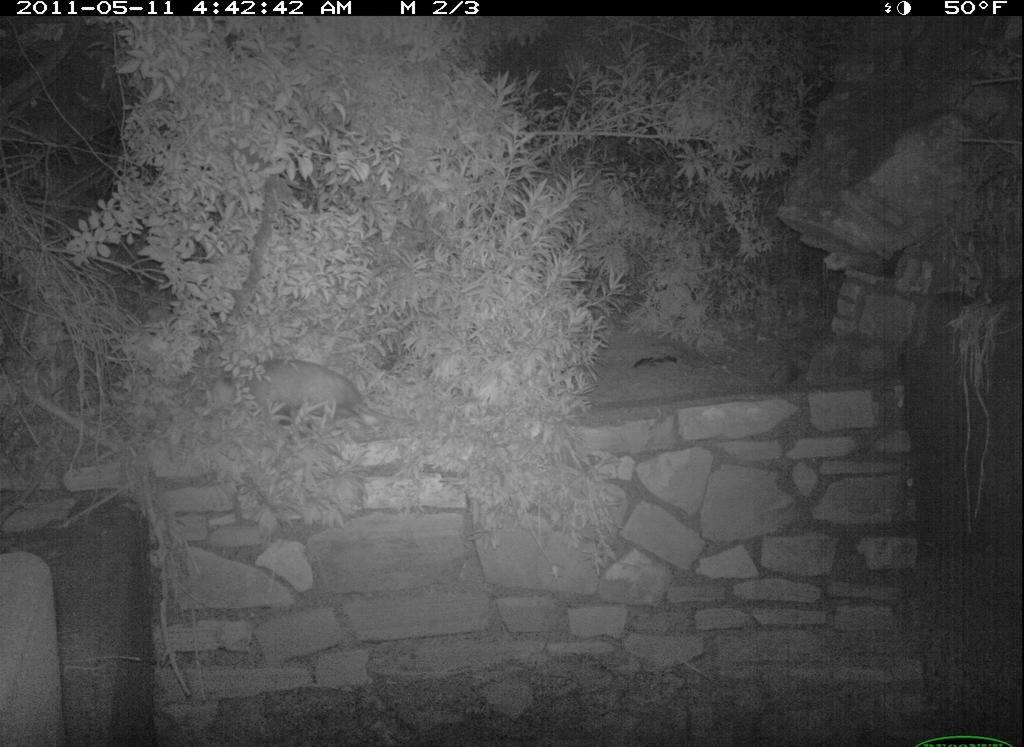opossum: (222, 355, 422, 447)
